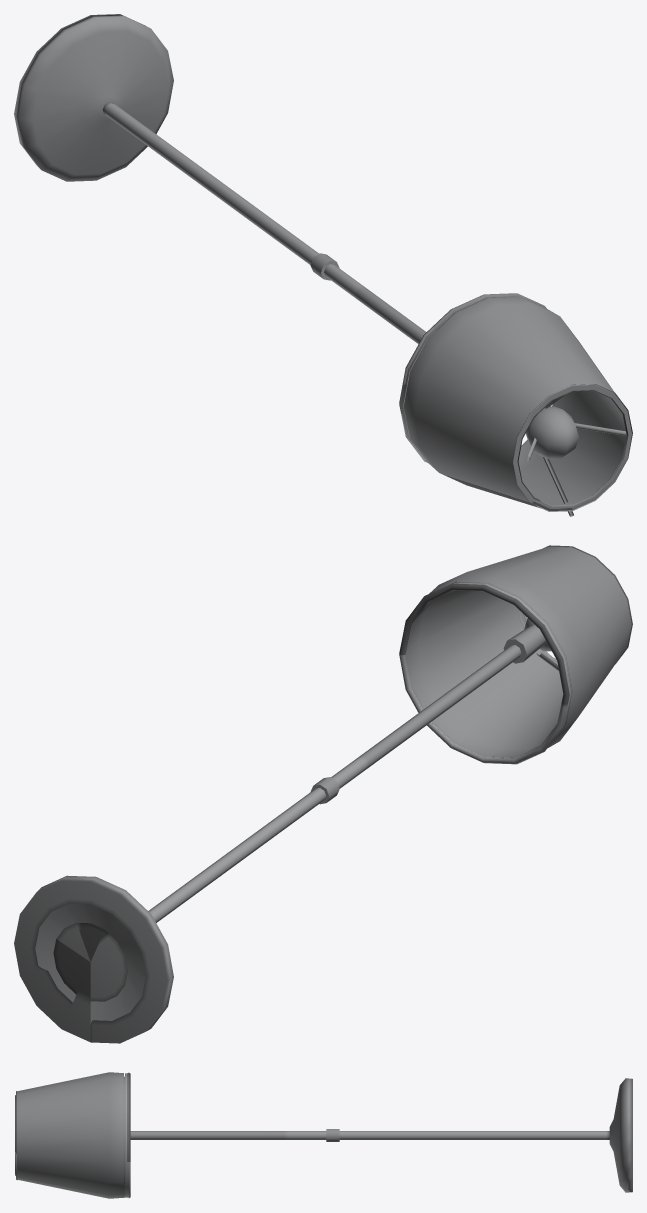
3 views of the same model, one above another, from view 1: azimuth 30°, elevation 25°; view 2: azimuth 150°, elevation 25°; view 3: azimuth 270°, elevation 25° (orthographic). The views are drawn at different scales.
Bounding box in the file's own units: 0.38 × 0.38 × 1.86.
